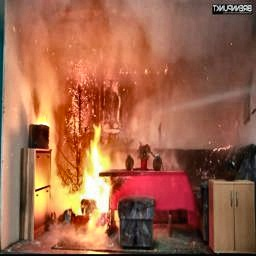fire: (66, 117, 124, 221)
smoke: (109, 5, 213, 109)
